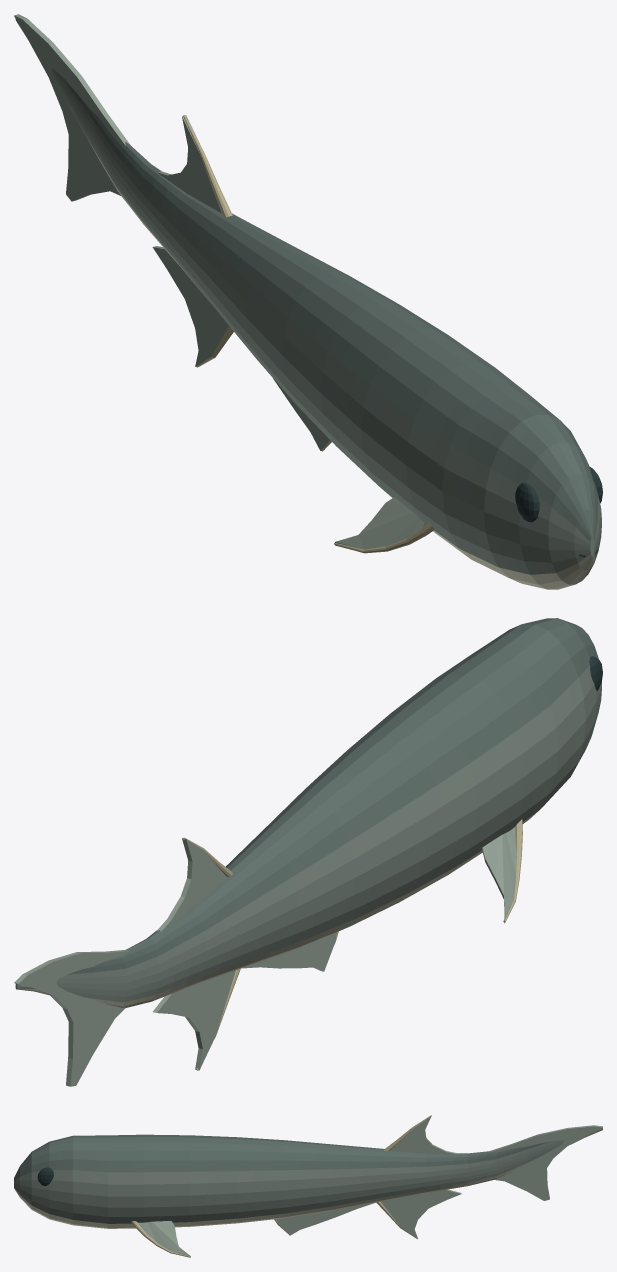
The picture shows the model from 3 angles, top to bottom: view 1: azimuth 30°, elevation 25°; view 2: azimuth 150°, elevation 25°; view 3: azimuth 270°, elevation 25°; orthographic projection. The views are drawn at different scales.
Visible parts, largest first — view 1: 01-continuous-fusiform-body-and-axial-tail, 02-asymmetric-caudal-web-small-distal-axial-lobe, 07-single-midline-anal-web, 04-L-understated-pectoral-web, 07-single-midline-dorsal-web, 05-L-embedded-anterior-eye; view 2: 01-continuous-fusiform-body-and-axial-tail, 02-asymmetric-caudal-web-small-distal-axial-lobe, 07-single-midline-anal-web, 07-single-midline-dorsal-web, 04-L-understated-pectoral-web, 07-single-midline-ventral-web; view 3: 01-continuous-fusiform-body-and-axial-tail, 02-asymmetric-caudal-web-small-distal-axial-lobe, 07-single-midline-anal-web, 07-single-midline-dorsal-web, 07-single-midline-ventral-web, 04-R-understated-pectoral-web, 05-R-embedded-anterior-eye, 03-R-pectoral-spine.
Boxes of the visible parts, x1=… form: 01-continuous-fusiform-body-and-axial-tail: x1=16, y1=20, x2=601, y2=589; 02-asymmetric-caudal-web-small-distal-axial-lobe: x1=14, y1=14, x2=130, y2=201; 07-single-midline-anal-web: x1=152, y1=246, x2=228, y2=366; 04-L-understated-pectoral-web: x1=335, y1=497, x2=426, y2=549; 07-single-midline-dorsal-web: x1=156, y1=115, x2=221, y2=213; 05-L-embedded-anterior-eye: x1=515, y1=483, x2=539, y2=522; 01-continuous-fusiform-body-and-axial-tail: x1=15, y1=618, x2=601, y2=1007; 02-asymmetric-caudal-web-small-distal-axial-lobe: x1=14, y1=949, x2=130, y2=1086; 07-single-midline-anal-web: x1=153, y1=970, x2=235, y2=1070; 07-single-midline-dorsal-web: x1=156, y1=838, x2=226, y2=931; 04-L-understated-pectoral-web: x1=482, y1=827, x2=516, y2=923; 07-single-midline-ventral-web: x1=242, y1=932, x2=336, y2=971; 01-continuous-fusiform-body-and-axial-tail: x1=14, y1=1128, x2=602, y2=1228; 02-asymmetric-caudal-web-small-distal-axial-lobe: x1=489, y1=1125, x2=602, y2=1200; 07-single-midline-anal-web: x1=381, y1=1189, x2=461, y2=1238; 07-single-midline-dorsal-web: x1=390, y1=1116, x2=456, y2=1154; 07-single-midline-ventral-web: x1=276, y1=1202, x2=375, y2=1235; 04-R-understated-pectoral-web: x1=138, y1=1221, x2=190, y2=1257; 05-R-embedded-anterior-eye: x1=37, y1=1167, x2=53, y2=1185; 03-R-pectoral-spine: x1=131, y1=1221, x2=190, y2=1257.
Size of the model in its own units: 0.0172 by 0.0233 by 0.1.
